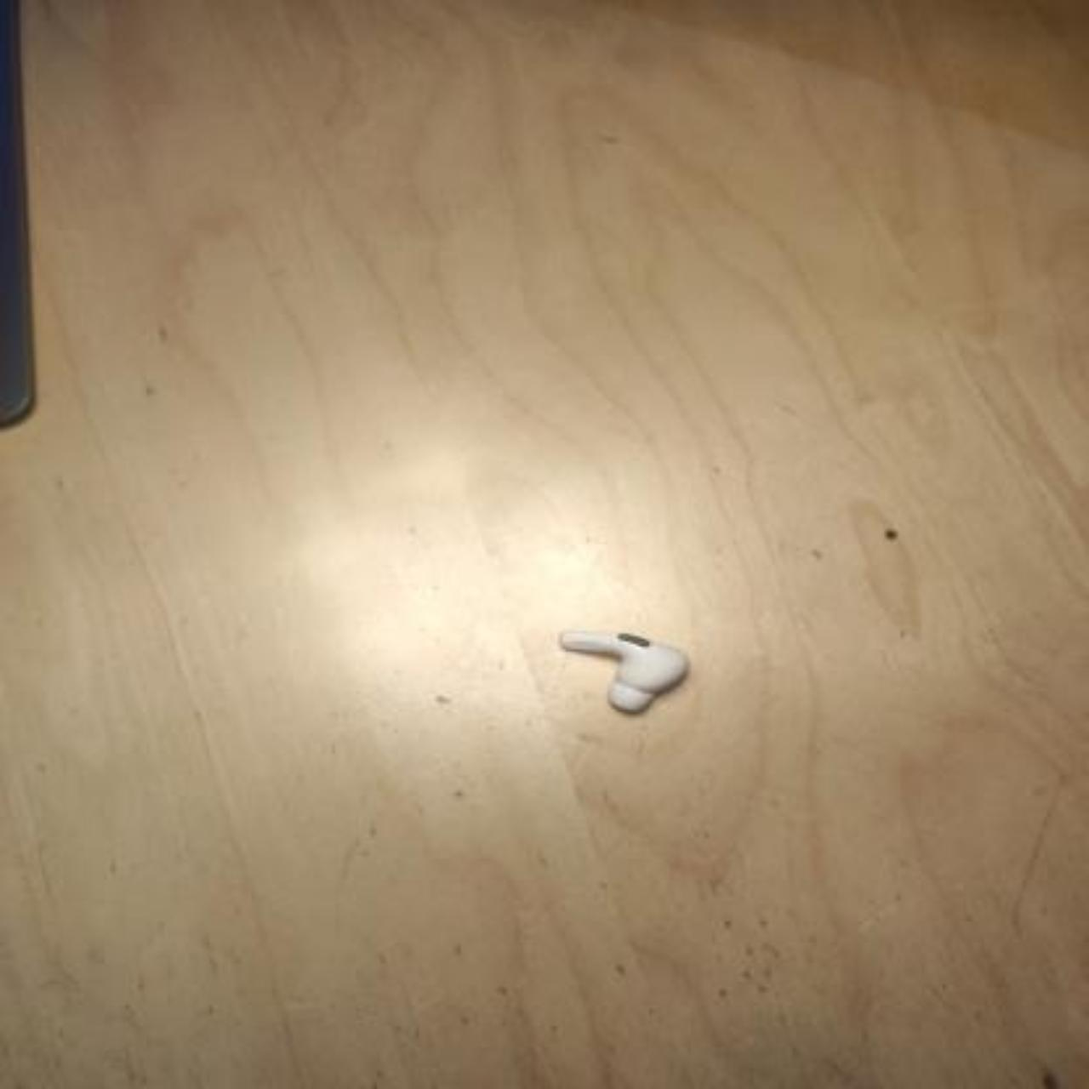Airpods_Units: (556, 626, 695, 712)
